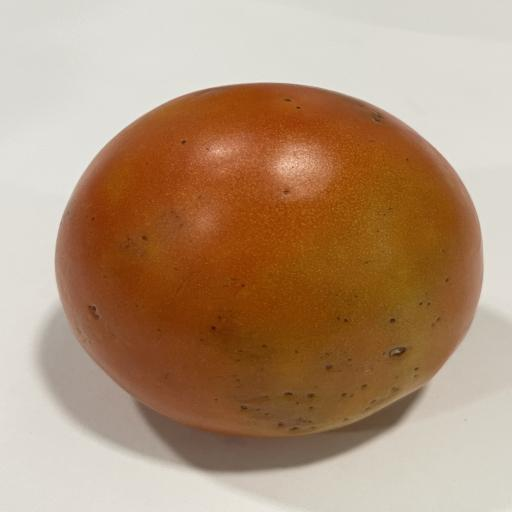ripe: (56, 83, 482, 438)
